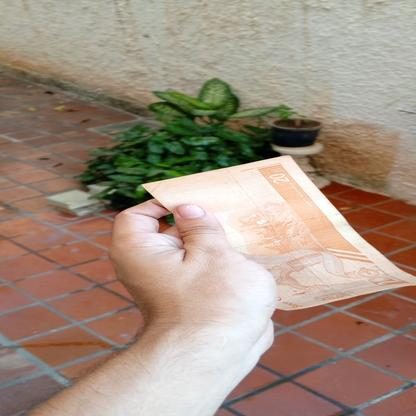vef_back: (141, 154, 416, 312)
